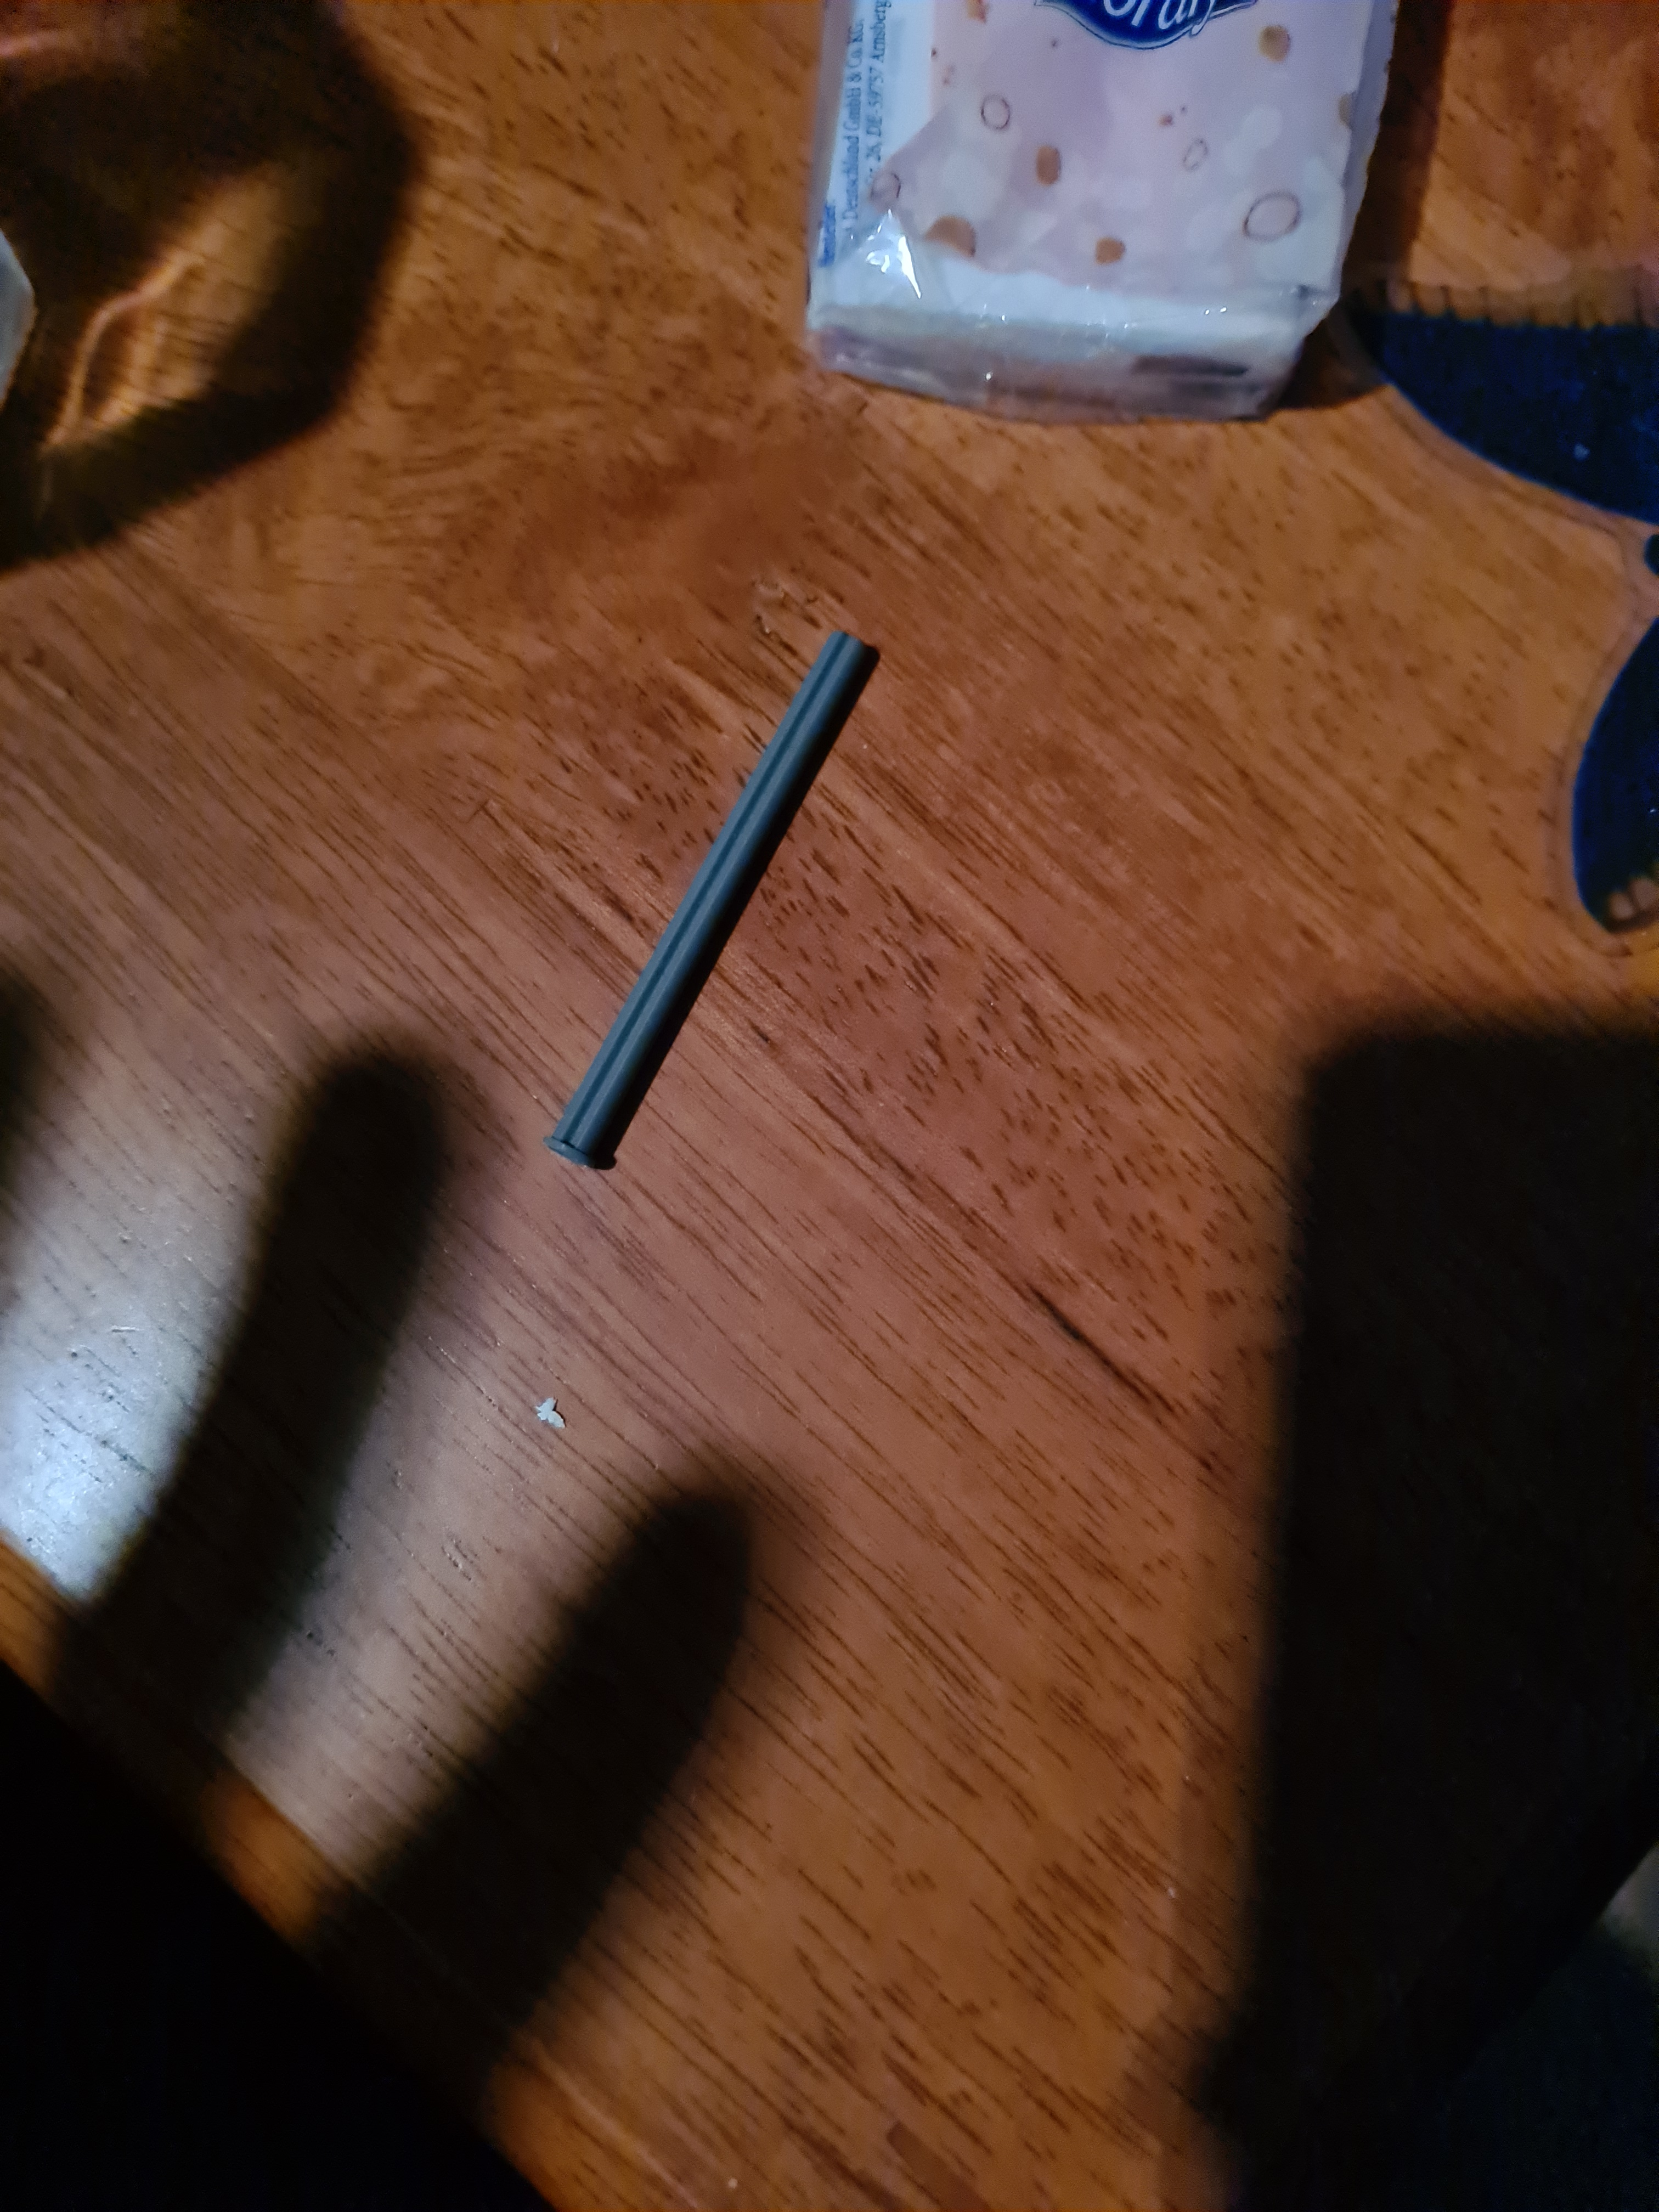Grau_lang: (528, 604, 906, 1204)
